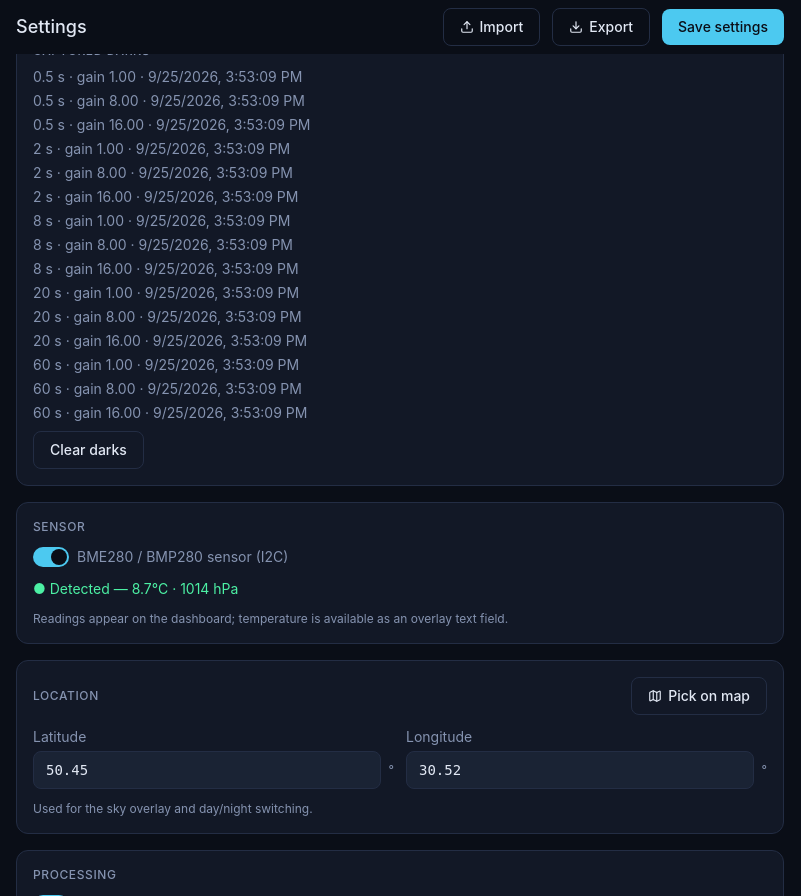
Test: SettingsPage › lists captured darks and can clear them
This screenshot has width=801, height=896.
(page scrolled)
Click the button "Clear darks": (88, 450) [33,431,144,469]
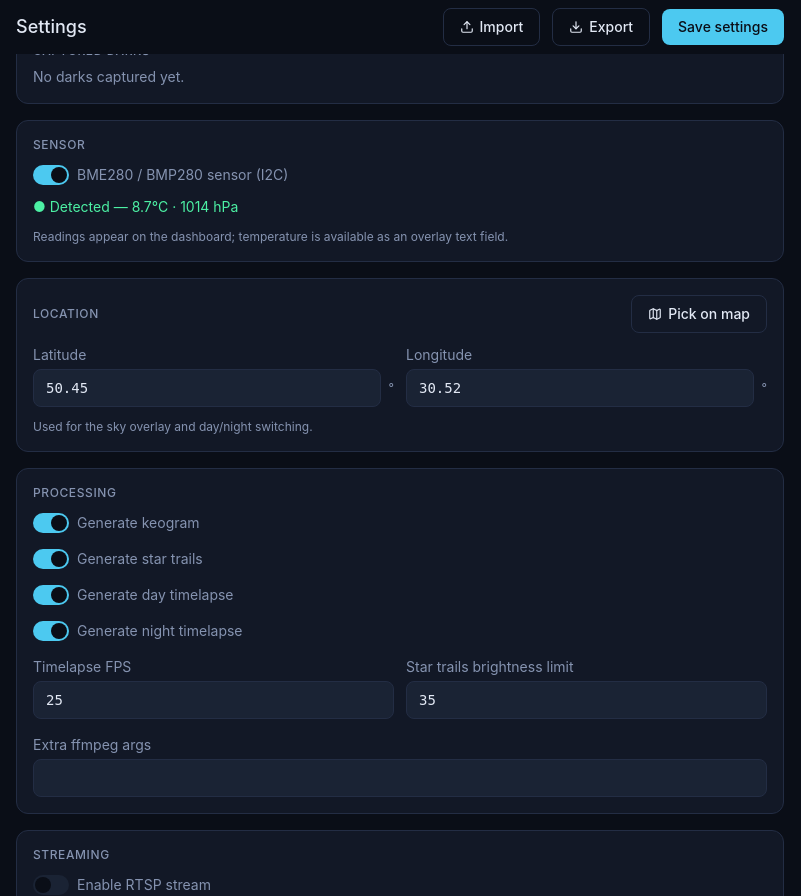
Check: the text "No darks captured yet." is shown, box [33,68,184,85]
